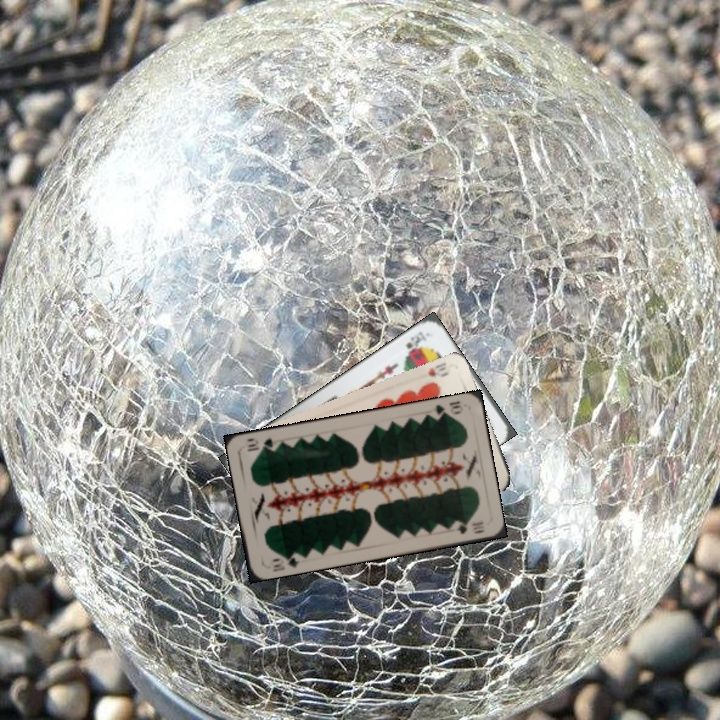G10: (427, 397, 465, 422), (268, 549, 302, 573)
H10: (424, 358, 452, 380)
SK: (401, 327, 429, 356)
